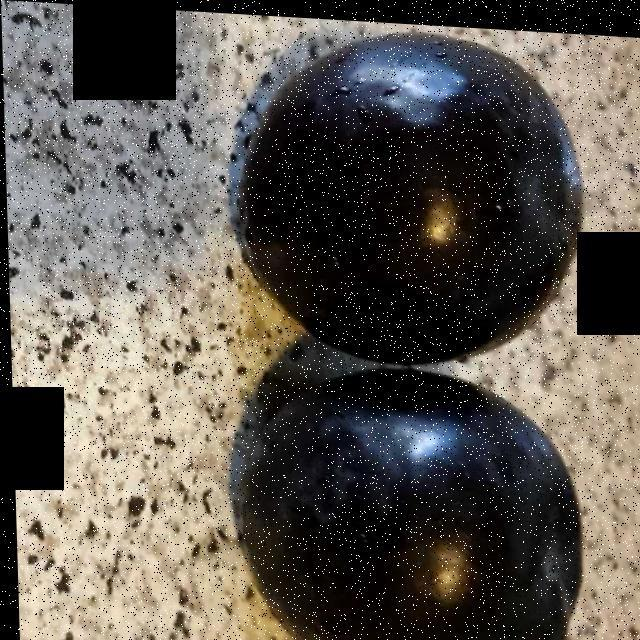plums: (165, 37, 601, 640)
